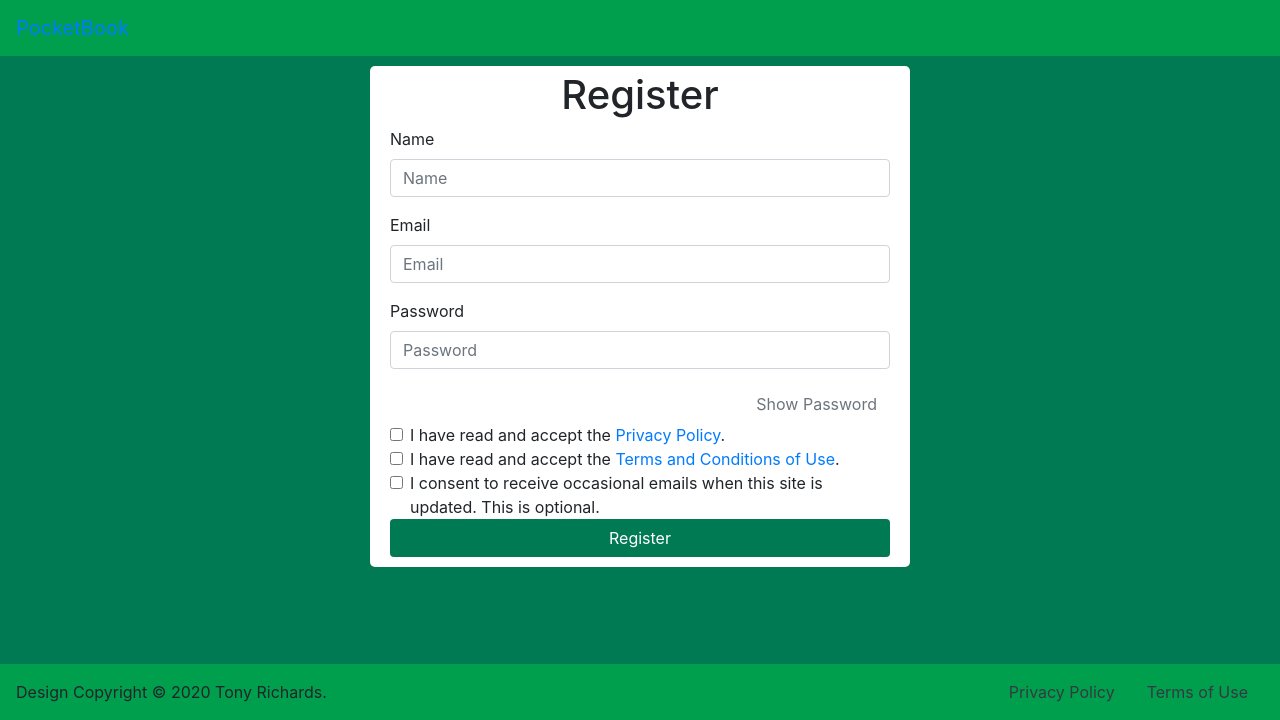
Test: Register Page › renders server error correctly
Type "Test Name" into the field labelled "Name". click: (640, 178)
box: [390,159,890,197]
Type "test@sja.org.uk" into the field labelled "Email". click: (640, 264)
box: [390,245,890,283]
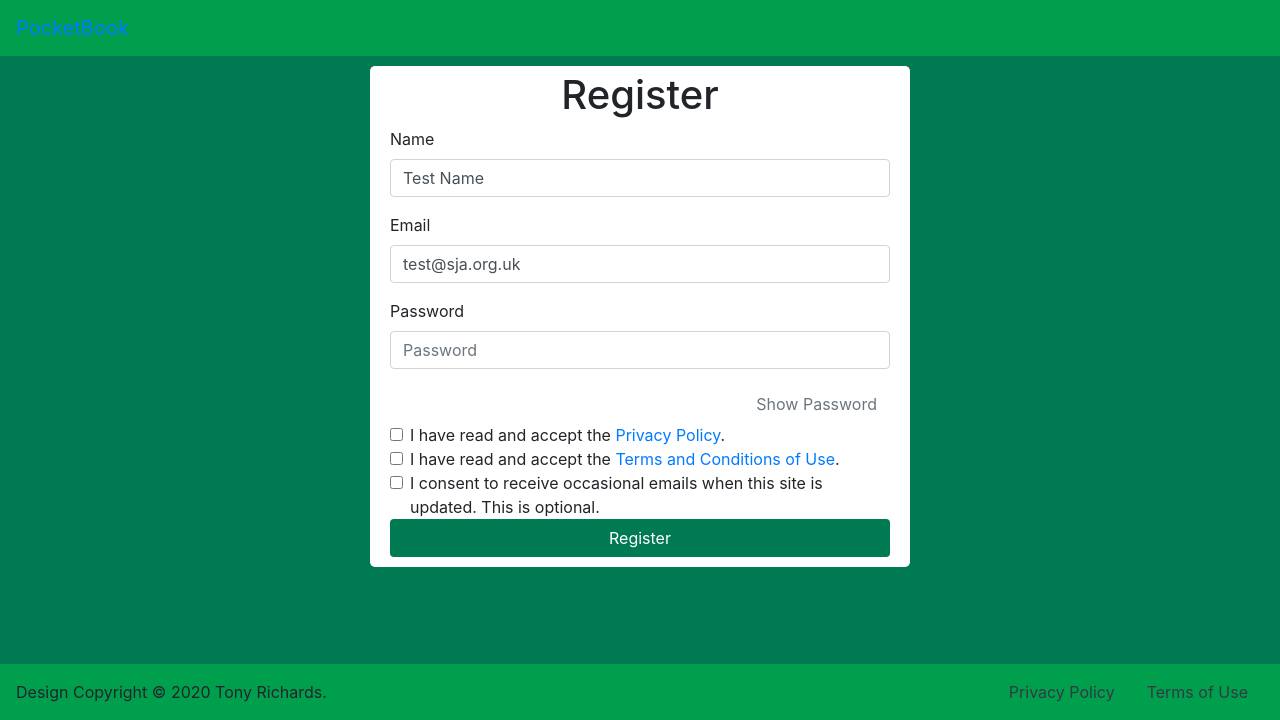
Type "testPassword" into the password field labelled "Password". click: (640, 350)
box: [390,331,890,369]
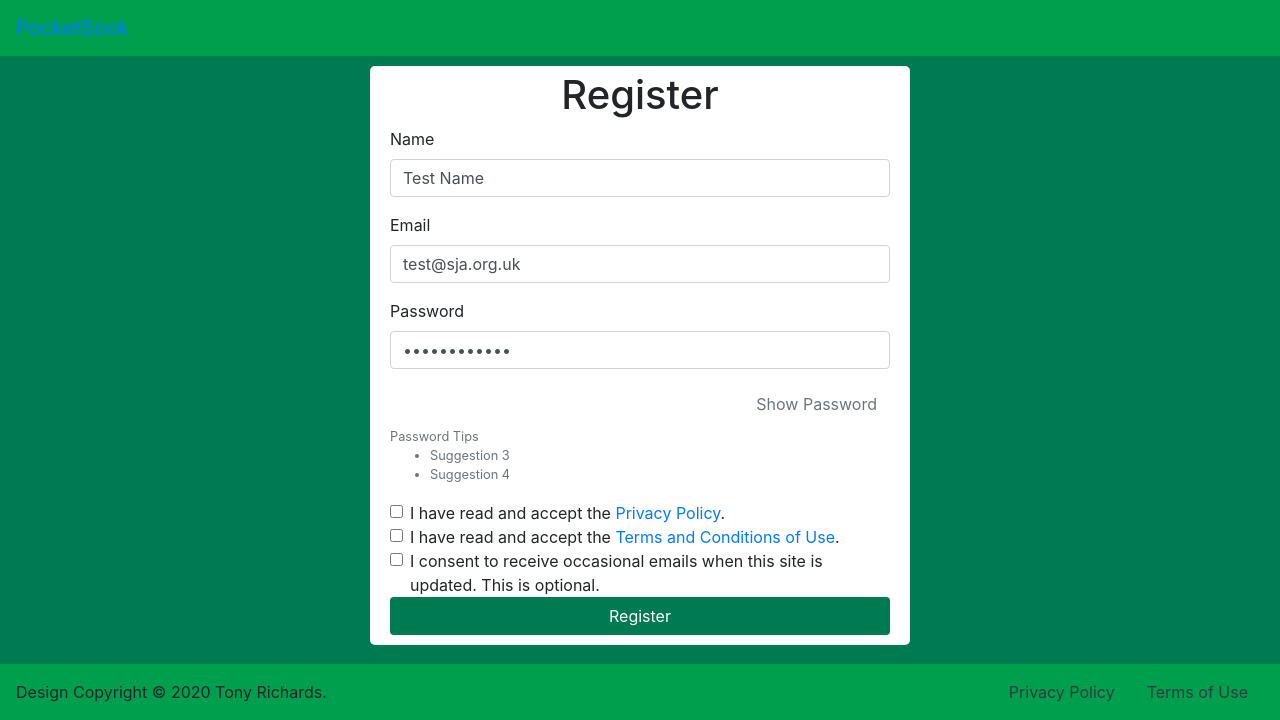
Click the checkbox labelled "Privacy Policy". click: (396, 512)
box: [390,505,403,518]
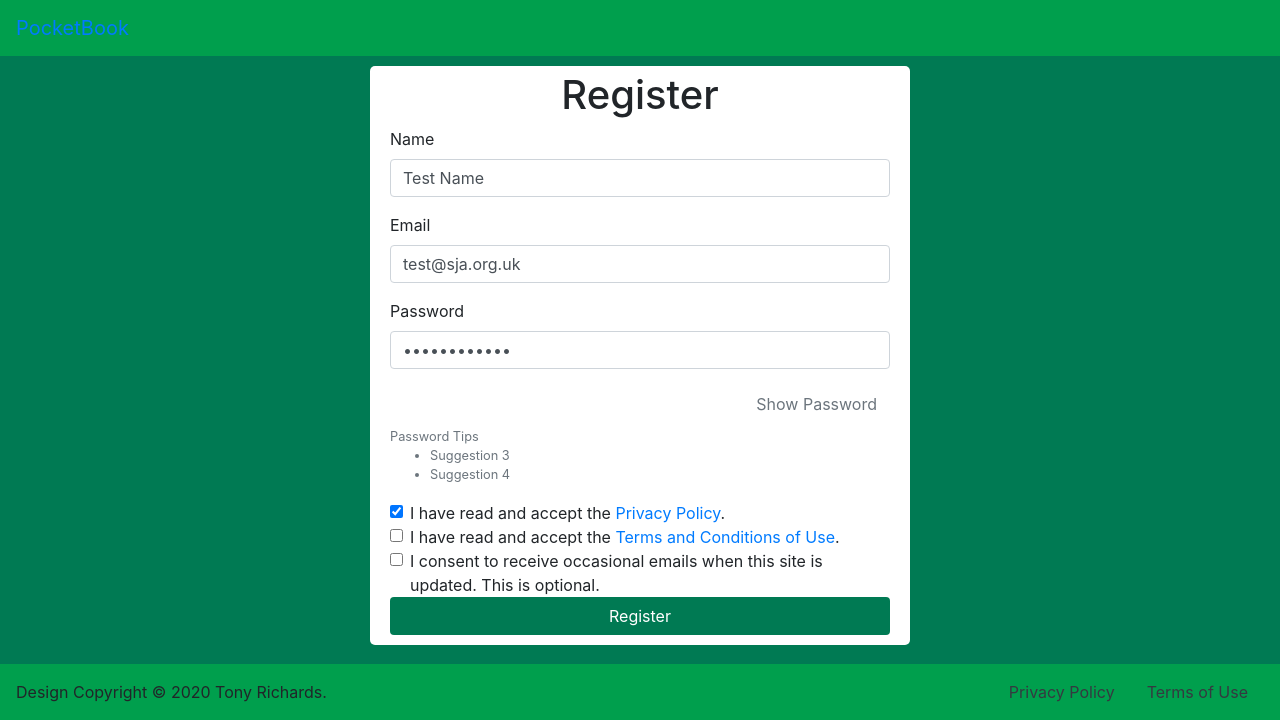
Click the checkbox labelled "Terms". click: (396, 536)
box: [390,529,403,542]
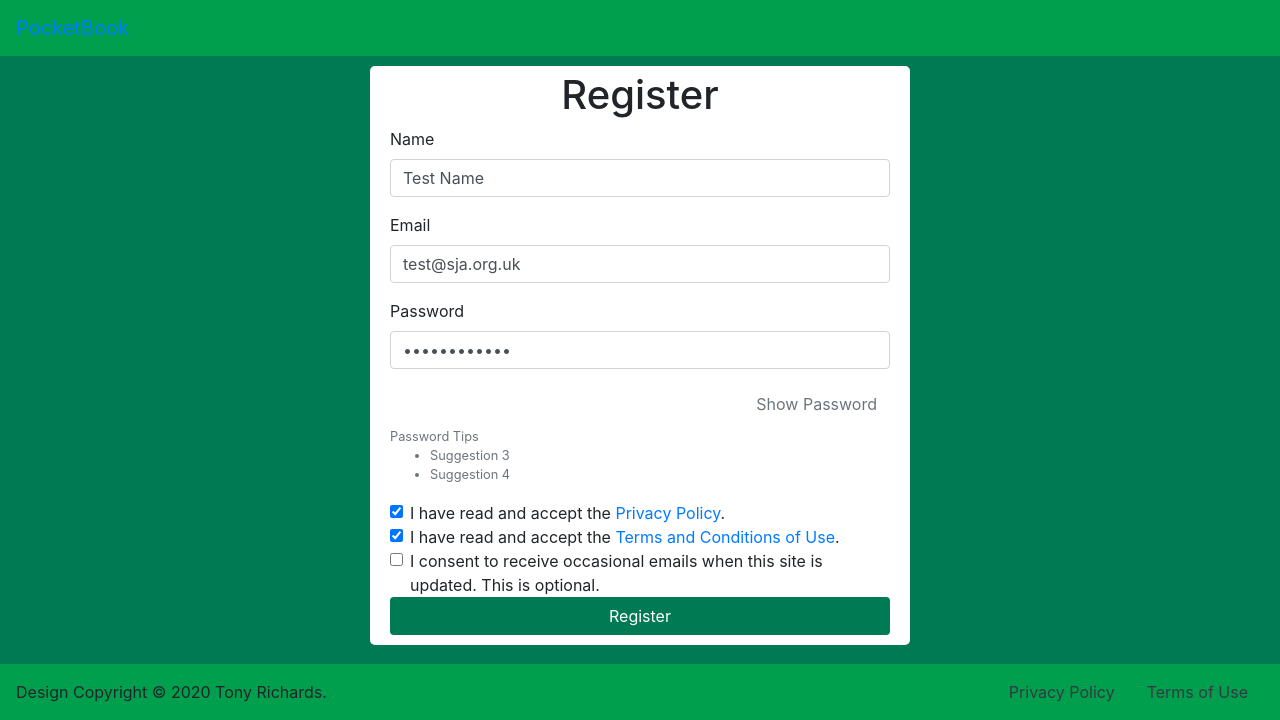
Click the checkbox labelled "consent". click: (396, 560)
box: [390,553,403,566]
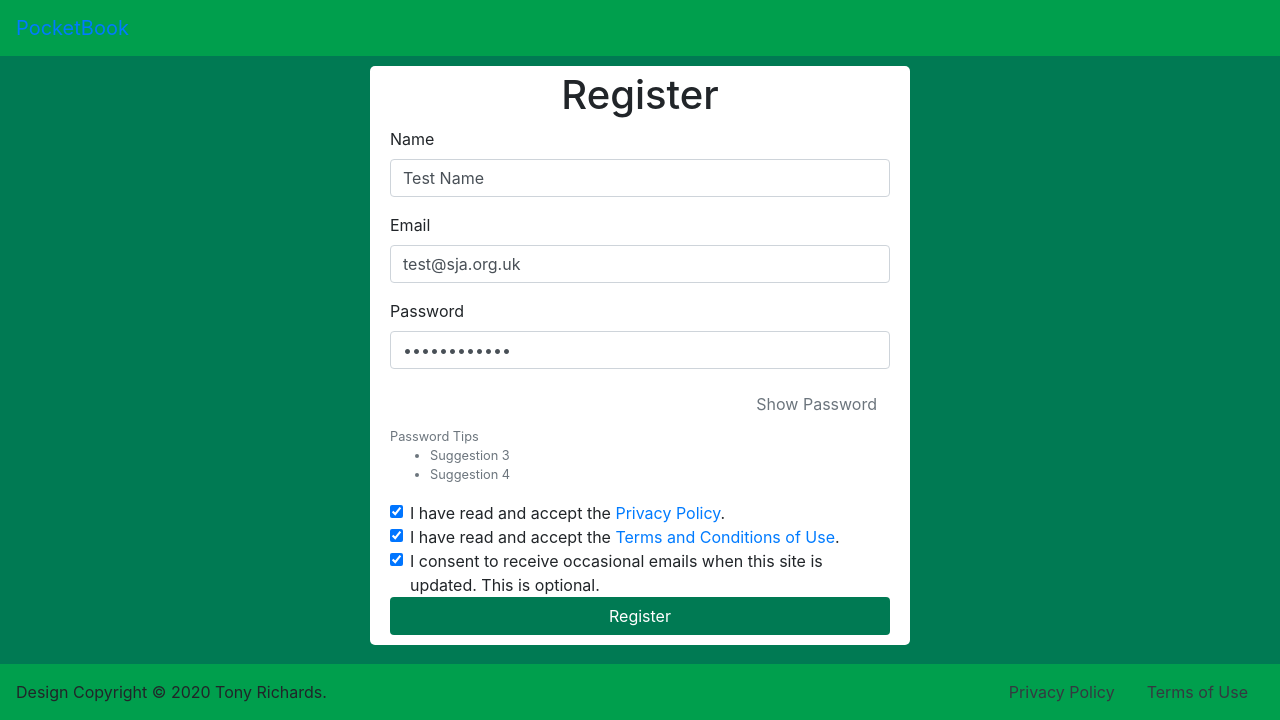
Click the button "Register". click: (640, 616)
box: [390,597,890,635]
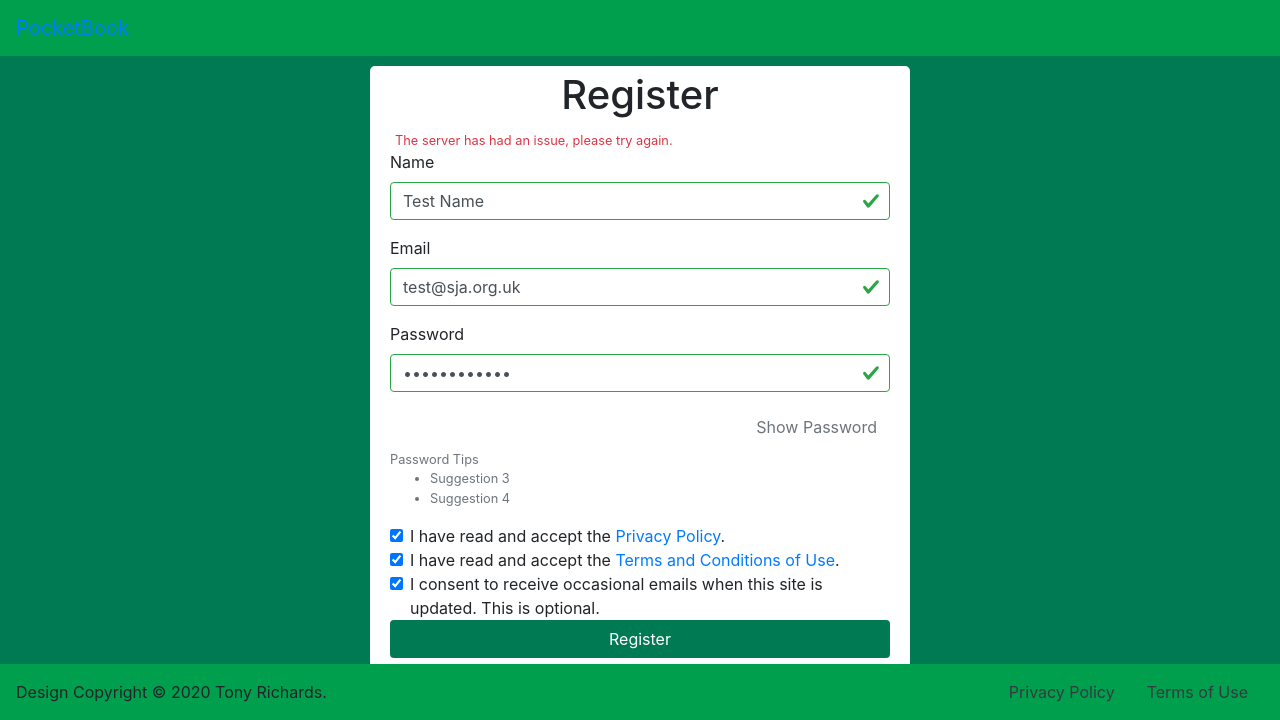
Now the text "The server has had an issue, please try again." is shown, box [395,133,673,148]
